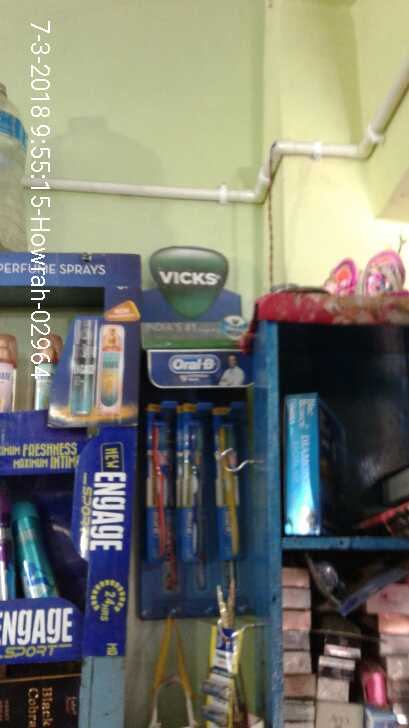oralb: (171, 419, 202, 567), (211, 414, 244, 552), (144, 420, 171, 570)
